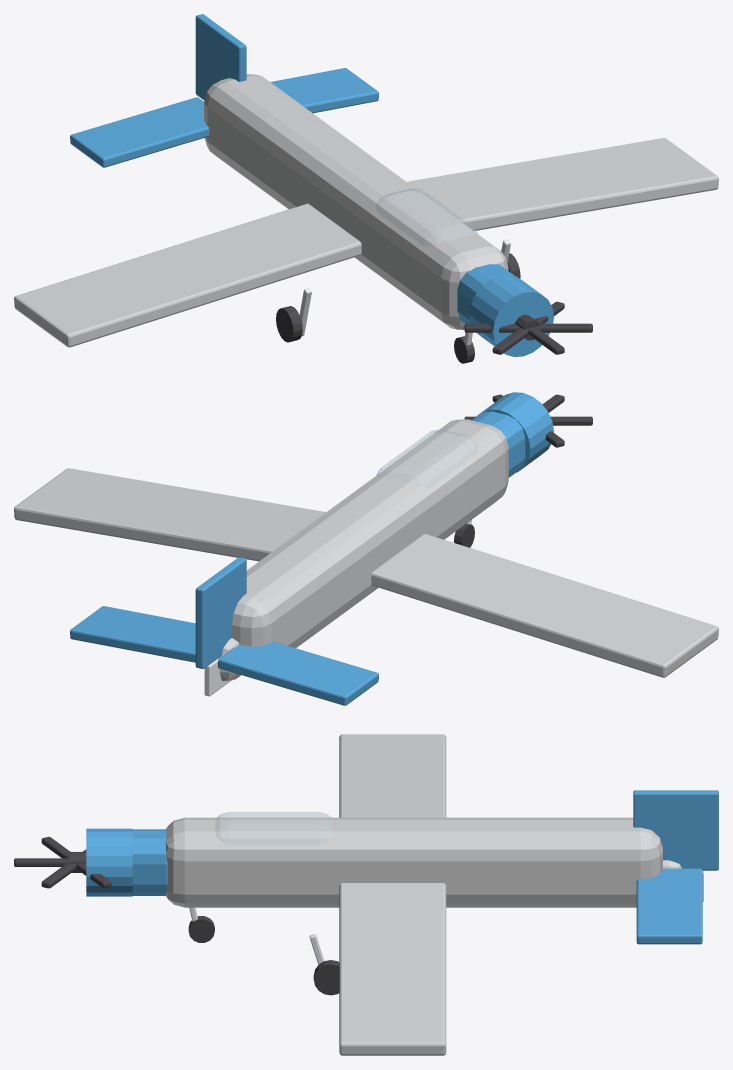
The model's file is veh_airplane.glb.
3 renders of one model, top to bottom at view 1: azimuth 30°, elevation 25°; view 2: azimuth 150°, elevation 25°; view 3: azimuth 270°, elevation 25°, orthographic. The views are drawn at different scales.
Visible parts, largest first — view 1: veh_airplane_fuselage, veh_airplane_wing_l, veh_airplane_wing_r, veh_airplane_tail_l, veh_airplane_cowl, veh_airplane_canopy, veh_airplane_fin, veh_airplane_tail_r, veh_airplane_nose, veh_airplane_prop_blade2, veh_airplane_gear_wheel_l, veh_airplane_prop_blade1; view 2: veh_airplane_fuselage, veh_airplane_wing_l, veh_airplane_wing_r, veh_airplane_tail_l, veh_airplane_tail_r, veh_airplane_fin, veh_airplane_canopy, veh_airplane_cowl, veh_airplane_nose, veh_airplane_fin_pad; view 3: veh_airplane_fuselage, veh_airplane_wing_r, veh_airplane_wing_l, veh_airplane_fin, veh_airplane_tail_r, veh_airplane_canopy, veh_airplane_cowl, veh_airplane_nose, veh_airplane_gear_wheel_r, veh_airplane_prop_blade1, veh_airplane_gear_nose_wheel.
Part boxes in pixels (box(x1,y1,x2,y2)): veh_airplane_fuselage: box(204, 74, 508, 329); veh_airplane_wing_l: box(14, 203, 361, 347); veh_airplane_wing_r: box(407, 138, 718, 230); veh_airplane_tail_l: box(70, 97, 209, 167); veh_airplane_cowl: box(469, 274, 553, 356); veh_airplane_canopy: box(376, 188, 477, 245); veh_airplane_fin: box(195, 14, 246, 100); veh_airplane_tail_r: box(270, 68, 378, 113); veh_airplane_nose: box(457, 264, 514, 323); veh_airplane_prop_blade2: box(464, 323, 592, 332); veh_airplane_gear_wheel_l: box(276, 306, 302, 342); veh_airplane_prop_blade1: box(492, 301, 564, 354); veh_airplane_fuselage: box(232, 419, 508, 648); veh_airplane_wing_l: box(371, 534, 718, 677); veh_airplane_wing_r: box(14, 468, 325, 561); veh_airplane_tail_l: box(218, 641, 378, 705); veh_airplane_tail_r: box(70, 606, 195, 662); veh_airplane_fin: box(195, 557, 246, 668); veh_airplane_canopy: box(376, 430, 477, 487); veh_airplane_cowl: box(475, 392, 553, 472); veh_airplane_nose: box(472, 411, 525, 477); veh_airplane_fin_pad: box(204, 659, 231, 696); veh_airplane_fuselage: box(165, 817, 662, 907); veh_airplane_wing_r: box(339, 883, 446, 1055); veh_airplane_wing_l: box(339, 734, 446, 817); veh_airplane_fin: box(633, 790, 718, 870); veh_airplane_tail_r: box(636, 868, 702, 944); veh_airplane_canopy: box(216, 812, 332, 844); veh_airplane_cowl: box(86, 828, 132, 896); veh_airplane_nose: box(132, 829, 167, 895); veh_airplane_gear_wheel_r: box(313, 960, 339, 995); veh_airplane_prop_blade1: box(41, 836, 111, 888); veh_airplane_gear_nose_wheel: box(188, 916, 214, 942).
Bounding box in the file's own units: 11.14 × 2.51 × 10.7.
